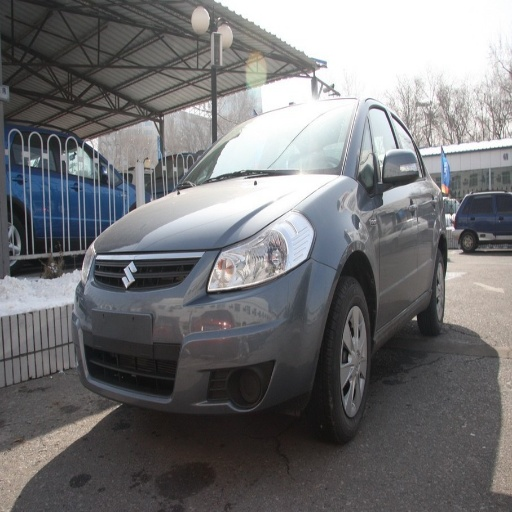front_bumper: (74, 248, 338, 413)
front_glass: (187, 104, 353, 186)
front_left_door: (358, 104, 417, 321)
